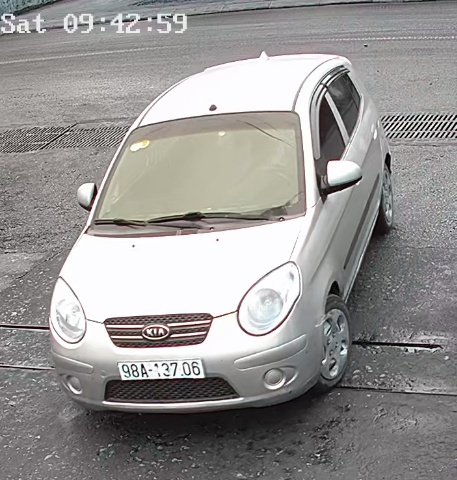vehicle plate: (112, 358, 212, 381)
